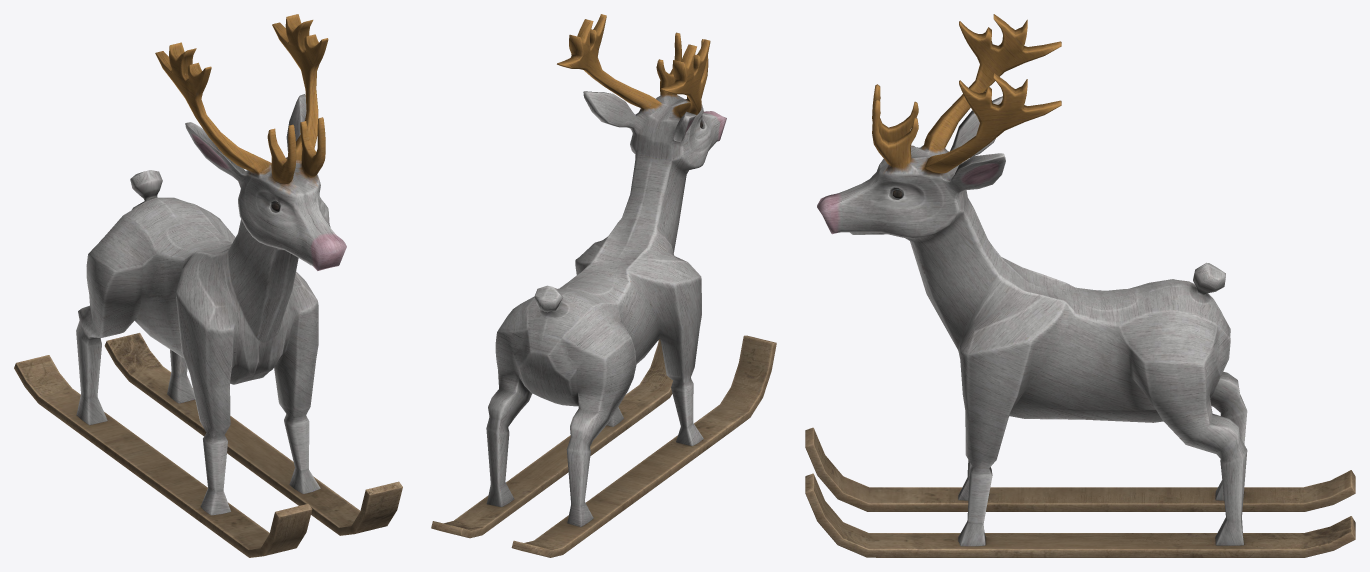
File: deer_toy.glb
3 renders of one model, left to right at view 1: azimuth 30°, elevation 25°; view 2: azimuth 150°, elevation 25°; view 3: azimuth 270°, elevation 25°, orthographic. The views are drawn at different scales.
Visible parts, largest first — view 1: Plane_Deer Toy_0; view 2: Plane_Deer Toy_0; view 3: Plane_Deer Toy_0.
Boxes of the visible parts, x1=… form: Plane_Deer Toy_0: x1=14, y1=14, x2=402, y2=557; Plane_Deer Toy_0: x1=431, y1=14, x2=776, y2=557; Plane_Deer Toy_0: x1=805, y1=14, x2=1355, y2=557.
Bounding box in the file's own units: 2.17 × 6.84 × 7.09.
1 material, 1 textured.
